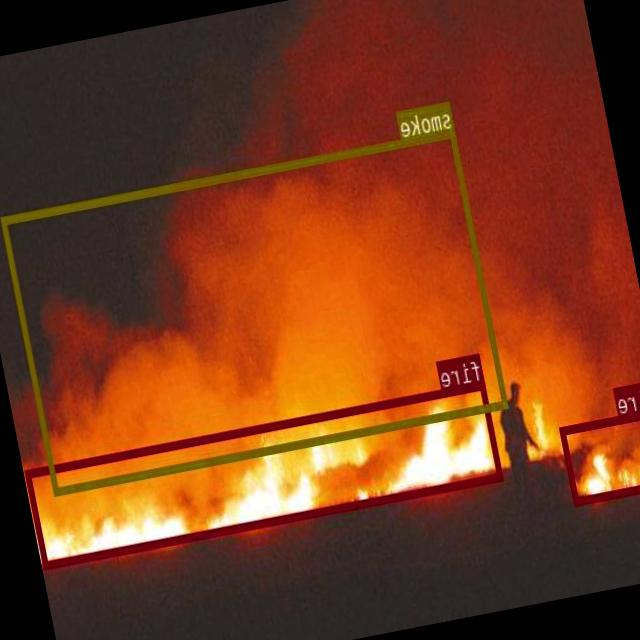fire: (27, 380, 504, 568), (559, 406, 640, 503)
smoke: (2, 129, 509, 494)
